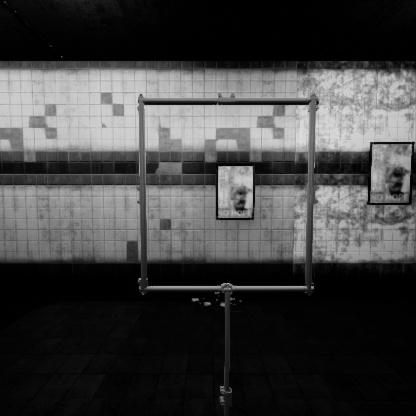gate: (139, 121, 335, 320)
